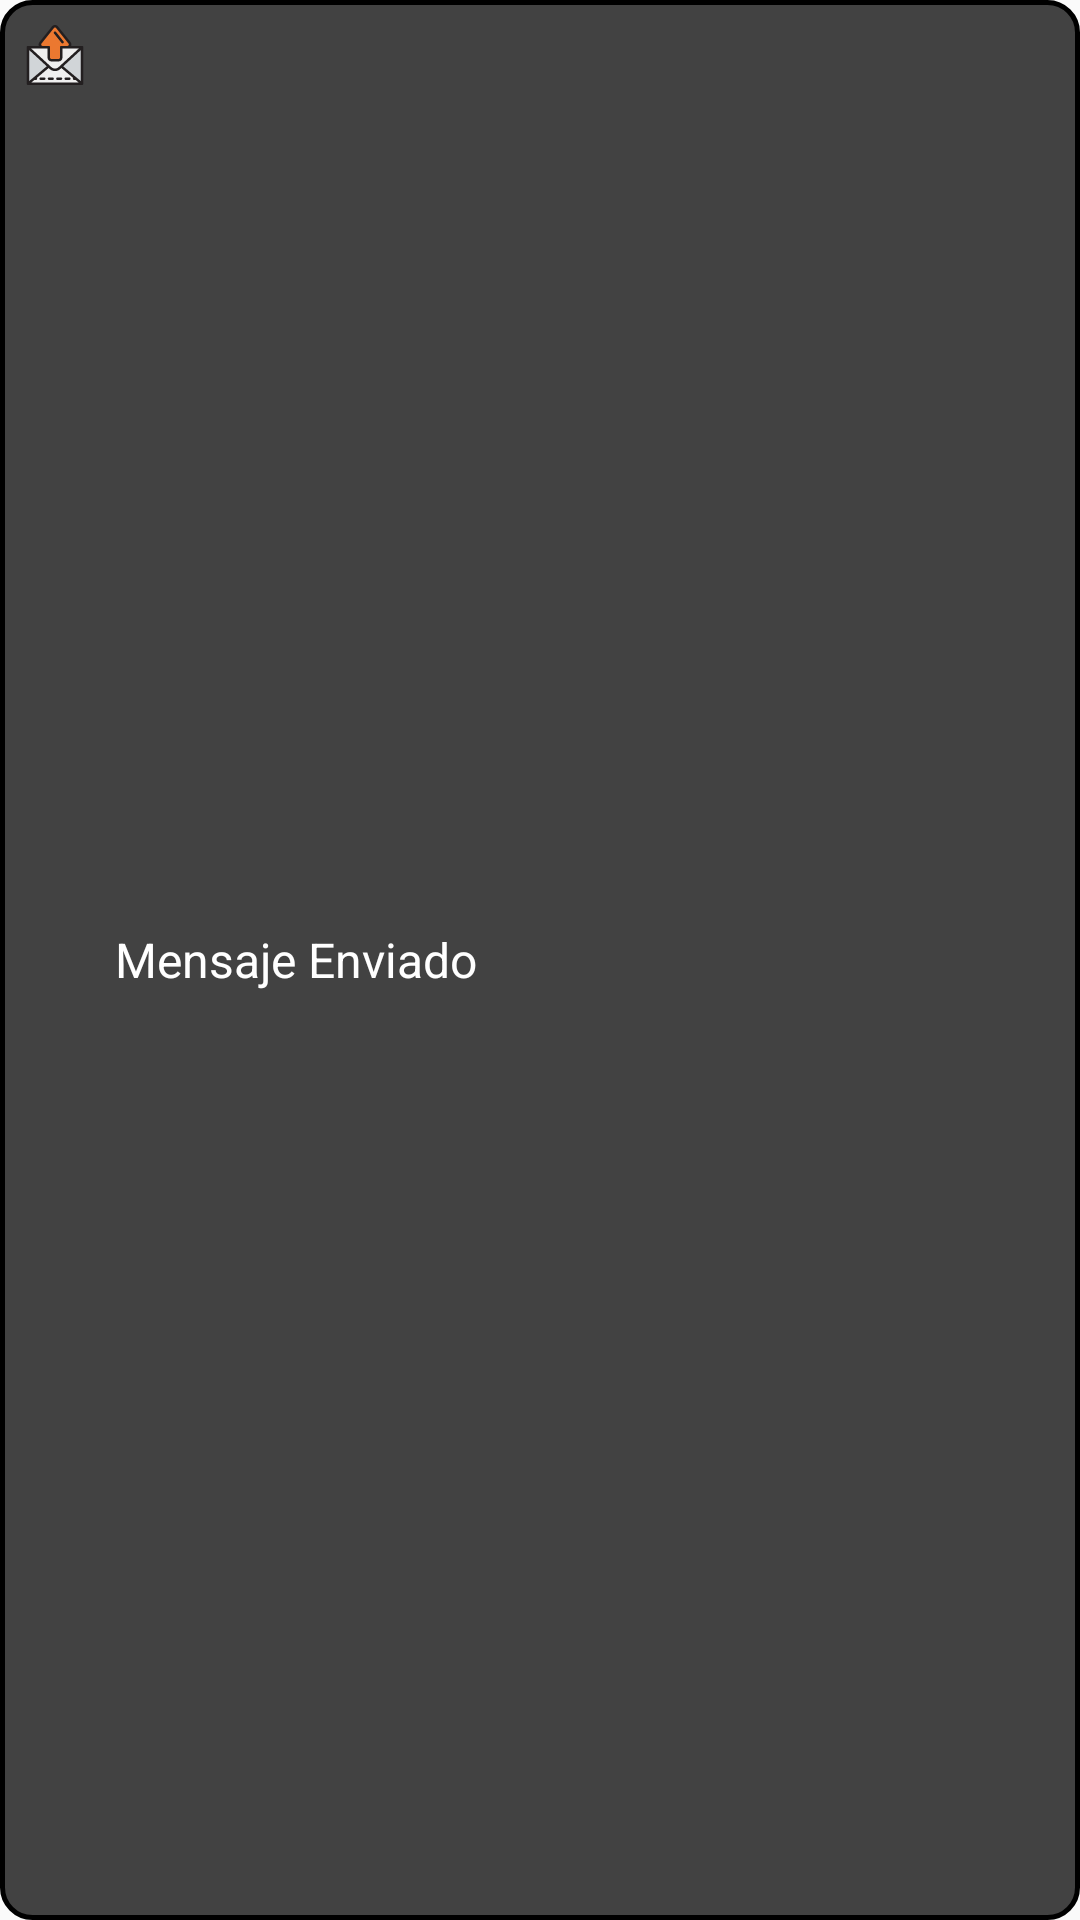

Icons on this 1080 × 1920 Android screen, each with the point to tap as (x,y):
outbox: (55,55)
